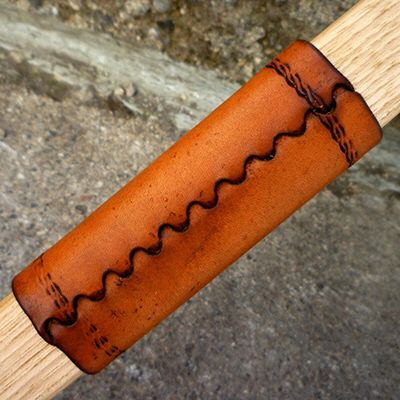cuero: (12, 38, 385, 375)
